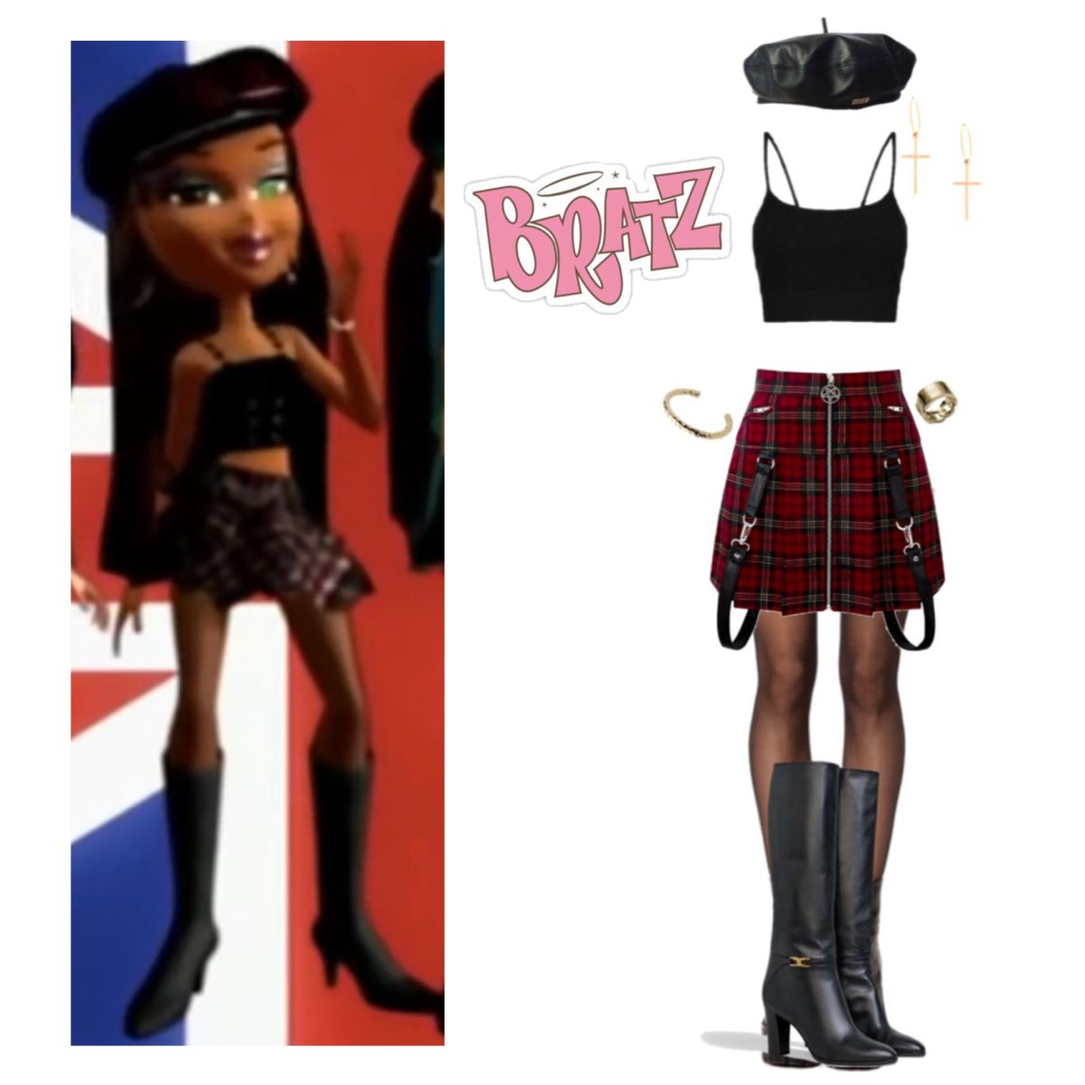Imprimante: (111, 744, 333, 863)
